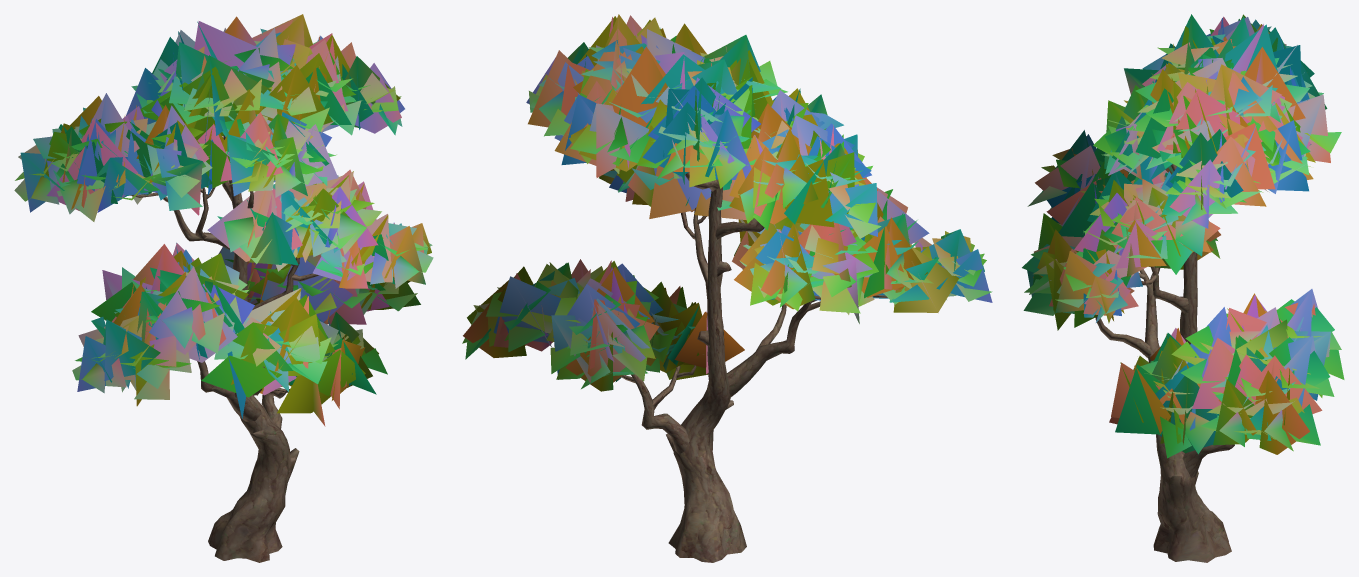
The model's file is Homeworld_Exterior_Dq_Plant_Pt_02_Lod0.fbx.
3 views of the same model, side by side, from view 1: azimuth 30°, elevation 25°; view 2: azimuth 150°, elevation 25°; view 3: azimuth 270°, elevation 25° (orthographic). The views are drawn at different scales.
Visible parts, largest first — view 1: Area_Dq_Tree_Common_Pt_01_02_Leaf_Lod0, Area_Dq_Tree_Common_Pt_01_02_Bark_Lod0; view 2: Area_Dq_Tree_Common_Pt_01_02_Leaf_Lod0, Area_Dq_Tree_Common_Pt_01_02_Bark_Lod0; view 3: Area_Dq_Tree_Common_Pt_01_02_Leaf_Lod0, Area_Dq_Tree_Common_Pt_01_02_Bark_Lod0.
Boxes of the visible parts, left/top/right/bottom form: Area_Dq_Tree_Common_Pt_01_02_Leaf_Lod0: left=14, top=14, right=433, bottom=426; Area_Dq_Tree_Common_Pt_01_02_Bark_Lod0: left=129, top=135, right=318, bottom=562; Area_Dq_Tree_Common_Pt_01_02_Leaf_Lod0: left=462, top=14, right=992, bottom=391; Area_Dq_Tree_Common_Pt_01_02_Bark_Lod0: left=621, top=172, right=887, bottom=562; Area_Dq_Tree_Common_Pt_01_02_Leaf_Lod0: left=1022, top=14, right=1344, bottom=458; Area_Dq_Tree_Common_Pt_01_02_Bark_Lod0: left=1095, top=164, right=1267, bottom=562.
Bounding box in the file's own units: 14.21 × 16.26 × 9.17.
